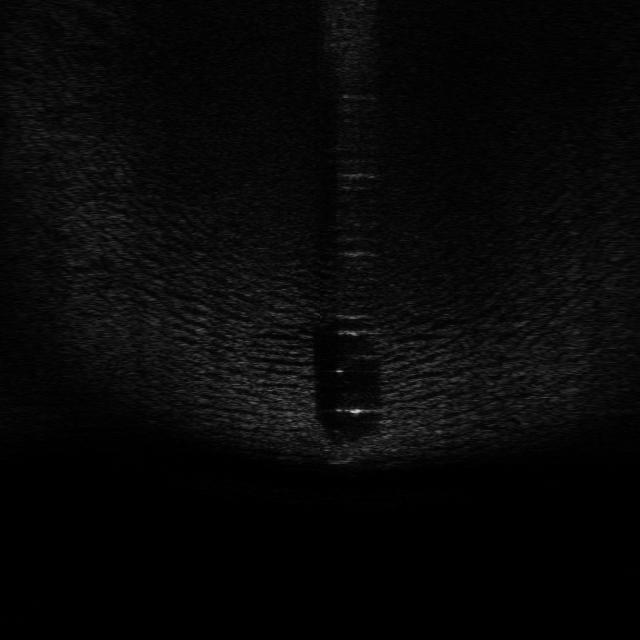cube: (326, 436, 382, 466)
